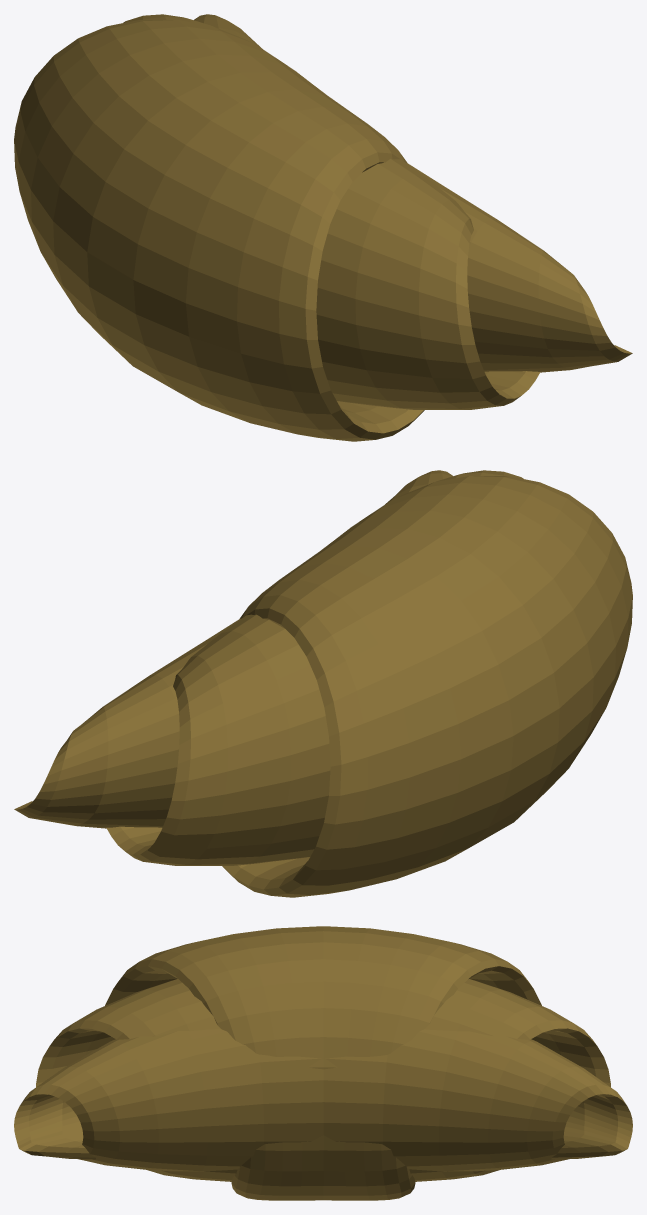
The model's file is Item_Croissant.fbx.
The picture shows the model from 3 angles, top to bottom: view 1: azimuth 30°, elevation 25°; view 2: azimuth 150°, elevation 25°; view 3: azimuth 270°, elevation 25°; orthographic projection. The views are drawn at different scales.
Parts seen in each view (by area): view 1: Plane; view 2: Plane; view 3: Plane.
Part boxes in pixels (x1,y1,x2,y2): Plane: (14, 14, 632, 441); Plane: (14, 470, 632, 897); Plane: (14, 926, 632, 1200).
Bounding box in the file's own units: 55.16 × 50.2 × 113.
